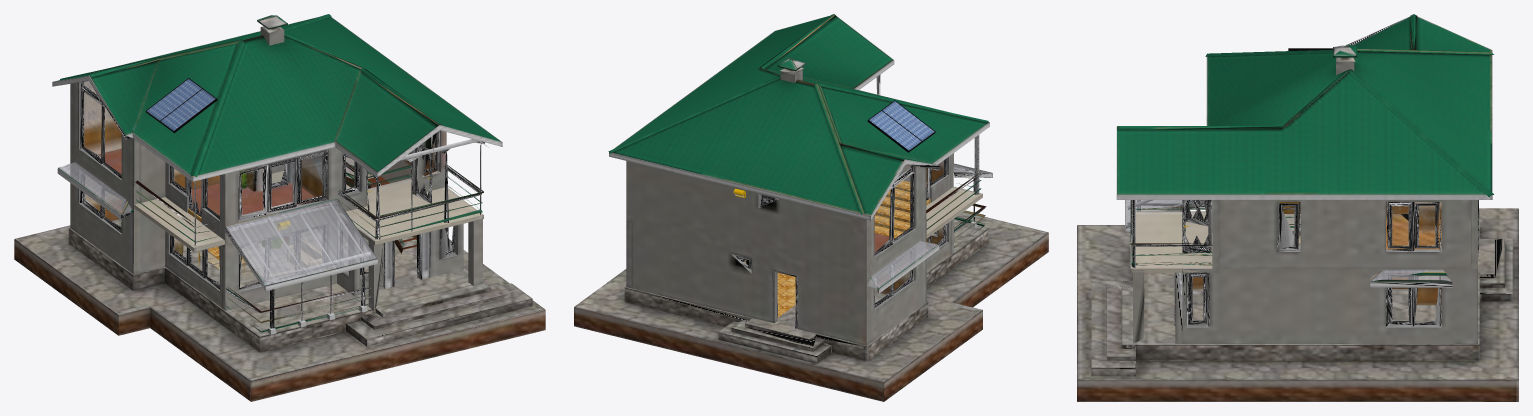
File: residence-wsg.far.glb
The picture shows the model from 3 angles, left to right: view 1: azimuth 30°, elevation 25°; view 2: azimuth 150°, elevation 25°; view 3: azimuth 270°, elevation 25°; orthographic projection. The views are drawn at different scales.
Parts seen in each view (by area): view 1: Object_7, Object_8, Object_11, Object_14, Object_9, Object_10, Object_4; view 2: Object_11, Object_7, Object_8, Object_14, Object_15, Object_9; view 3: Object_7, Object_11, Object_8, Object_14.
Boxes of the visible parts, x1,y1,x2,y2 form: Object_7: (58,14,500,332); Object_8: (14,219,545,401); Object_11: (70,17,483,310); Object_14: (52,16,502,328); Object_9: (145,78,217,132); Object_10: (200,240,324,283); Object_4: (84,81,367,242); Object_11: (626,59,982,345); Object_7: (608,14,991,288); Object_8: (574,212,1048,401); Object_14: (609,16,992,328); Object_15: (744,180,930,317); Object_9: (867,100,935,152); Object_7: (1117,14,1493,282); Object_11: (1130,47,1477,343); Object_8: (1077,208,1518,401); Object_14: (1116,16,1492,326).
Size of the model in its own units: 13.37 by 10.16 by 14.57.
Materials: 15 (10 with a texture image).
